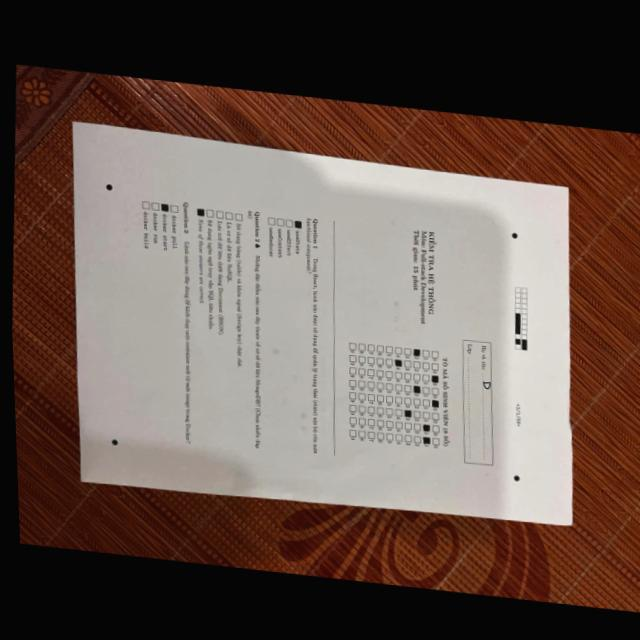Markers: (510, 232, 517, 239), (105, 184, 112, 191), (513, 475, 519, 481), (111, 439, 117, 445)
